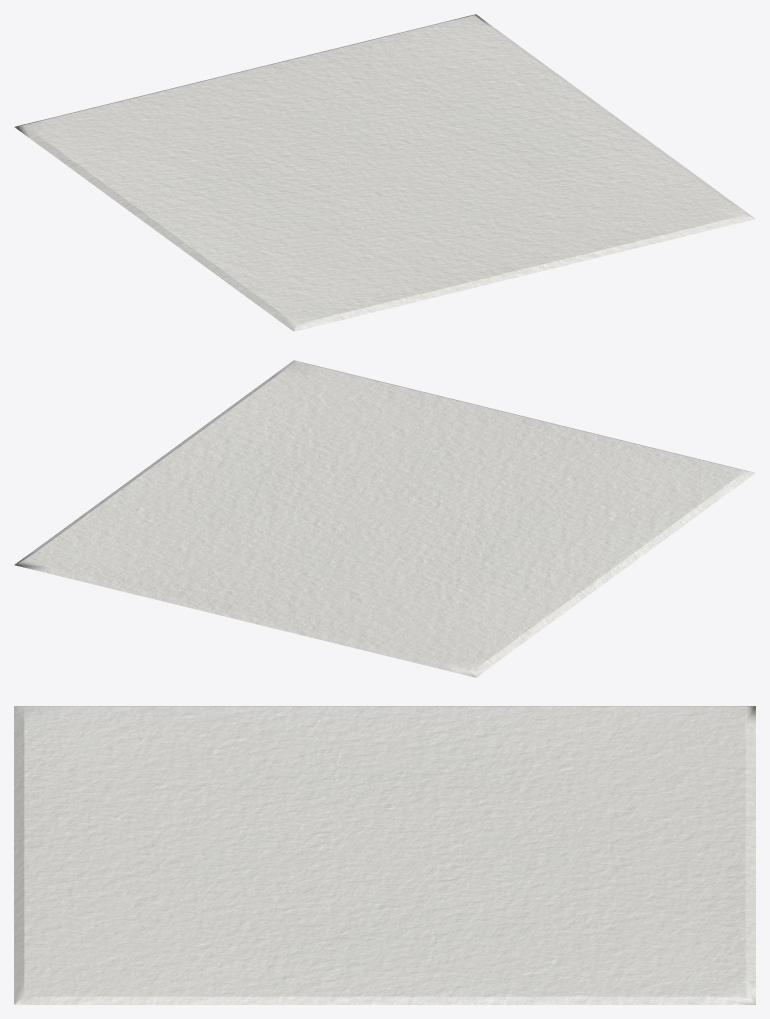
File: twosides2.fbx
The picture shows the model from 3 angles, top to bottom: view 1: azimuth 30°, elevation 25°; view 2: azimuth 150°, elevation 25°; view 3: azimuth 270°, elevation 25°; orthographic projection. The views are drawn at different scales.
Parts seen in each view (by area): view 1: twosides2; view 2: twosides2; view 3: twosides2.
Part boxes in pixels (x1,y1,x2,y2): twosides2: [14, 14, 755, 331]; twosides2: [14, 360, 755, 677]; twosides2: [14, 706, 755, 1004].
Size of the model in its own units: 94.11 by 1.16 by 98.79.
